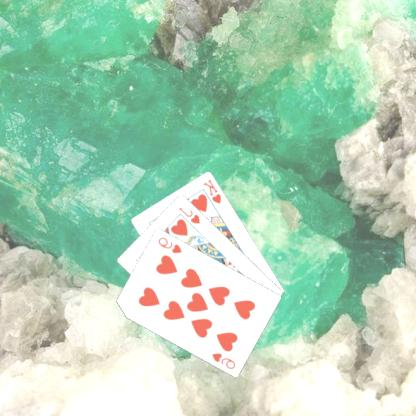9H: (157, 234, 185, 255), (211, 350, 239, 370)
JH: (178, 204, 204, 225)
KH: (202, 176, 224, 205)
